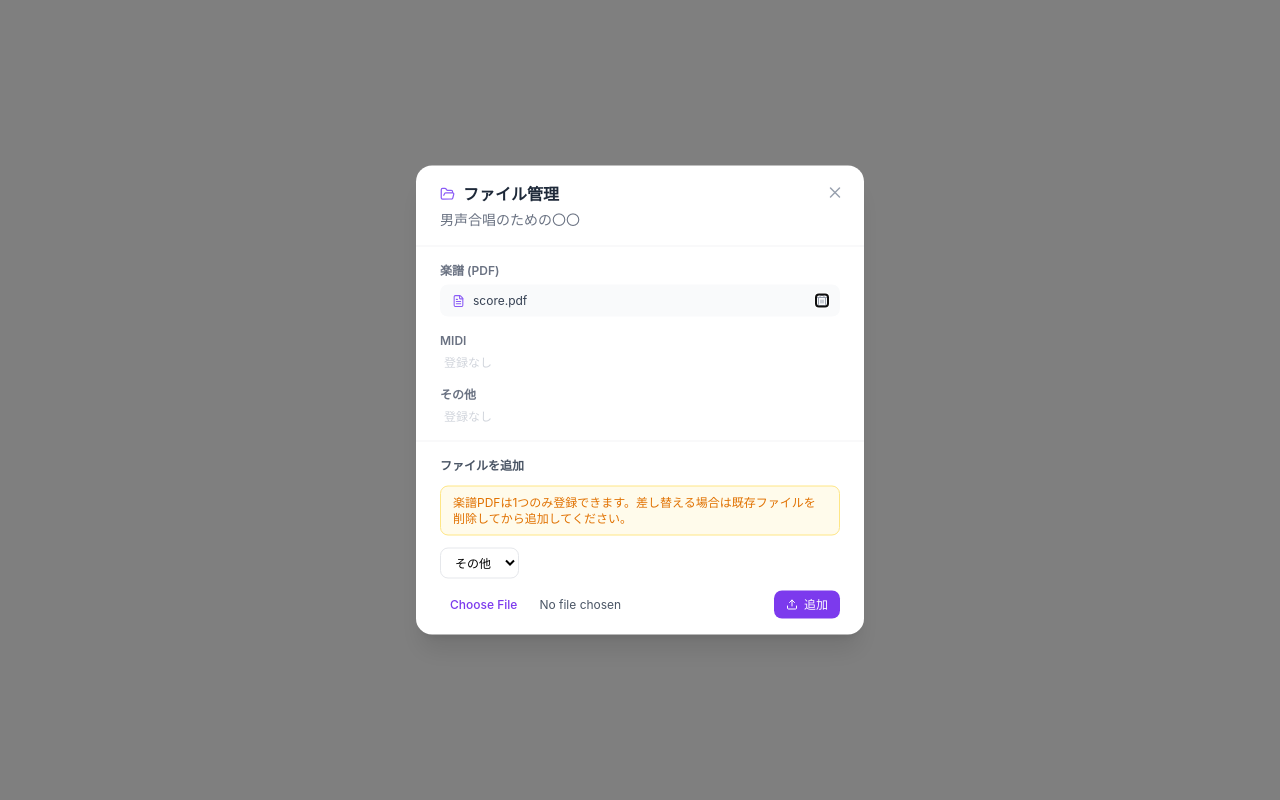
Scenario: FileManageModal（削除） › 削除ボタンクリックで確認ダイアログを表示し、キャンセルで閉じる
This screenshot has width=1280, height=800.
Click the button titled "削除": x=822, y=300 [816,294,828,306]
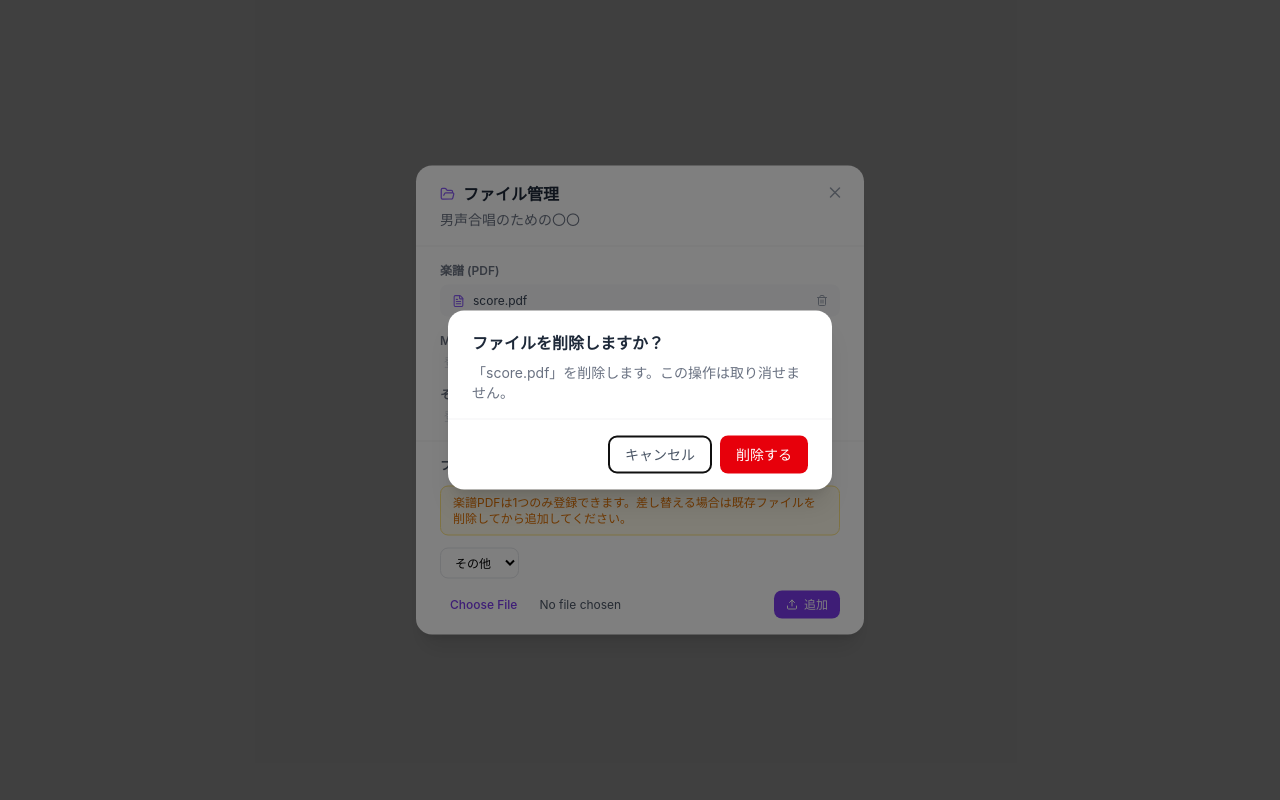
Now the heading "ファイルを削除しますか？" is shown, box [472,332,664,352]
Click the button "キャンセル": x=660, y=454 [608,436,712,474]
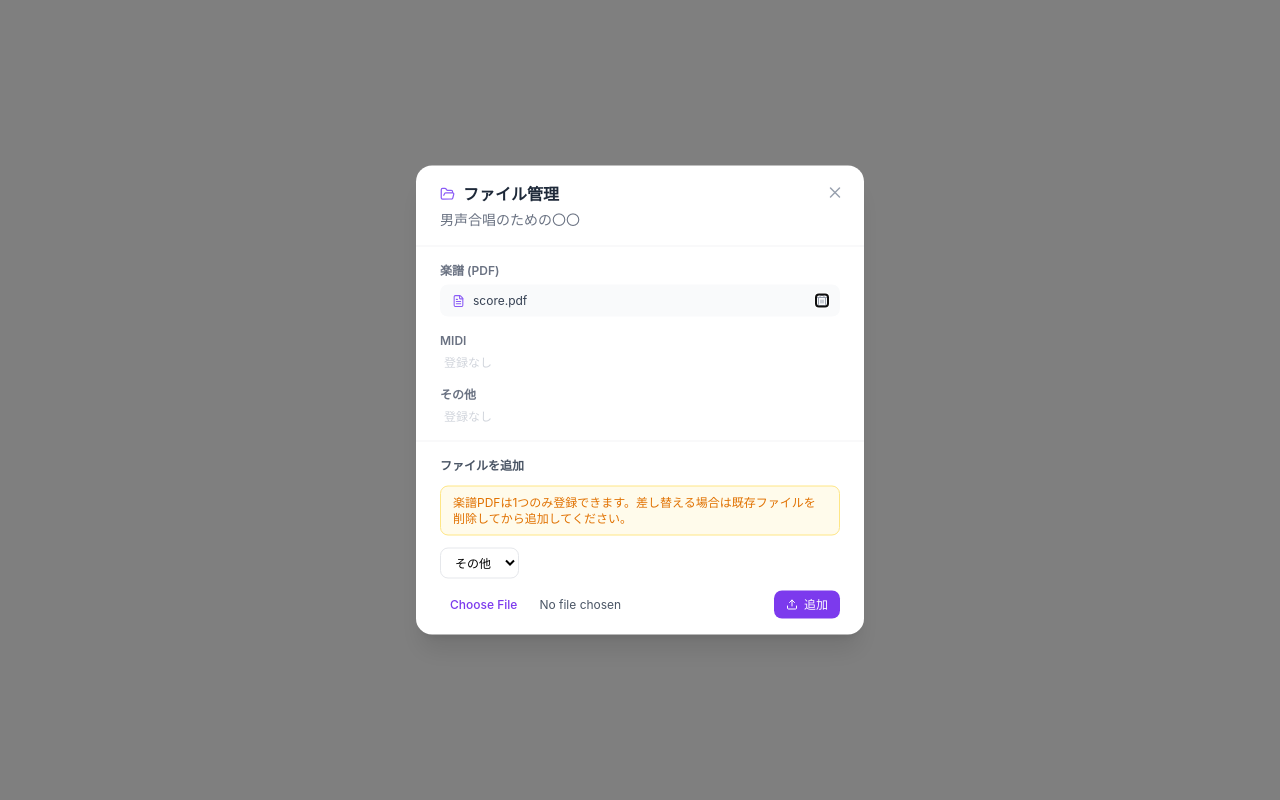
Now the heading "ファイルを削除しますか？" is gone
